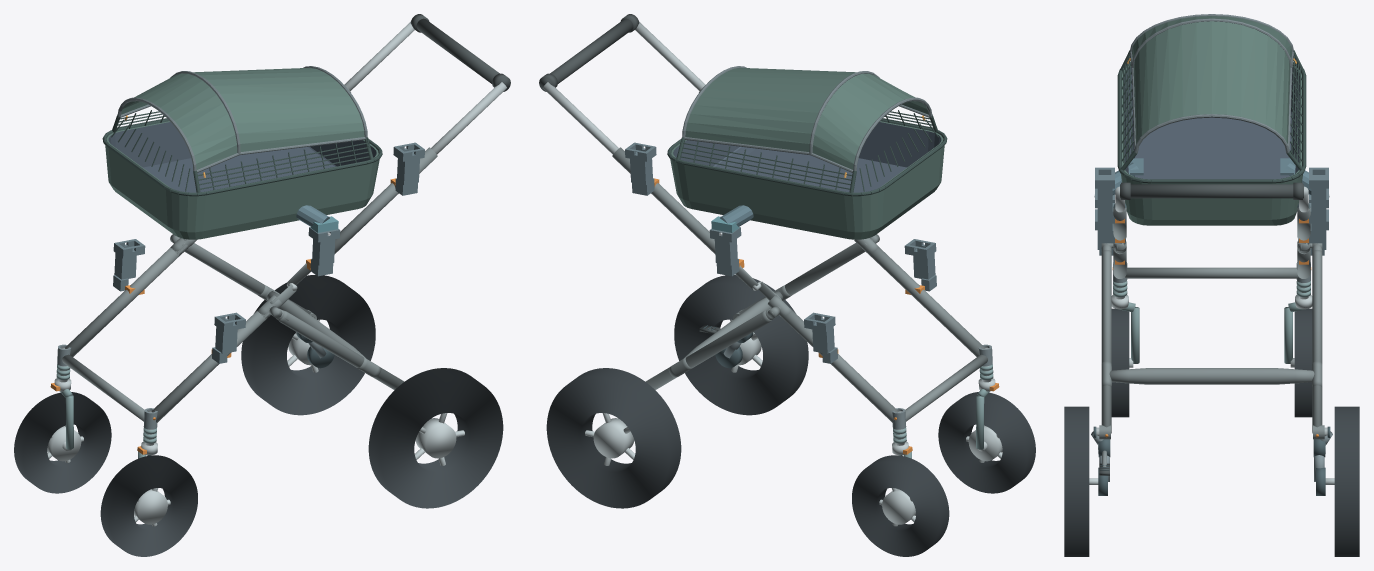
Rendered from S03_w550_state1_wheel_L.glb.
The picture shows the model from 3 angles, left to right: view 1: azimuth 30°, elevation 25°; view 2: azimuth 150°, elevation 25°; view 3: azimuth 270°, elevation 25°; orthographic projection. The views are drawn at different scales.
Parts seen in each view (by area): view 1: S03_Cabin, RL_tire.002, RR_tire.002, FL_tire.002, FR_tire.002, main_lower_1.003, V46_rear_leg_-1.003, main_lower_-1.003, round_handle.002, main_upper_-1.003, Universal_Cabin_Receiver_H_-1, V46_rear_leg_1.003 (+11 smaller); view 2: S03_Cabin, RR_tire.002, RL_tire.002, FR_tire.002, FL_tire.002, main_lower_-1.003, V46_rear_leg_1.003, main_lower_1.003, round_handle.002, main_upper_1.003, Universal_Cabin_Receiver_H_1, V46_rear_leg_-1.003 (+11 smaller); view 3: S03_Cabin, RL_tire.002, RR_tire.002, V46_rearbar.003, round_handle.002, front_fixed_round_tube.002, FL_tire.002, FR_tire.002, V46_rear_leg_1.003, V46_rear_leg_-1.003, Universal_Cabin_Receiver_H_1, Universal_Cabin_Receiver_H_-1 (+7 smaller).
Boxes of the visible parts, bbox=[...] form: S03_Cabin: bbox=[102, 66, 382, 239]; RL_tire.002: bbox=[368, 368, 503, 508]; RR_tire.002: bbox=[241, 275, 375, 415]; FL_tire.002: bbox=[100, 455, 197, 556]; FR_tire.002: bbox=[14, 392, 111, 493]; main_lower_1.003: bbox=[65, 245, 187, 356]; V46_rear_leg_-1.003: bbox=[278, 310, 404, 389]; main_lower_-1.003: bbox=[151, 311, 269, 422]; round_handle.002: bbox=[416, 18, 509, 90]; main_upper_-1.003: bbox=[310, 147, 437, 260]; Universal_Cabin_Receiver_H_-1: bbox=[393, 142, 424, 195]; V46_rear_leg_1.003: bbox=[184, 243, 312, 316]; S03_Cabin: bbox=[667, 66, 947, 239]; RR_tire.002: bbox=[546, 368, 681, 508]; RL_tire.002: bbox=[674, 275, 808, 415]; FR_tire.002: bbox=[852, 455, 949, 556]; FL_tire.002: bbox=[938, 392, 1035, 493]; main_lower_-1.003: bbox=[862, 245, 984, 356]; V46_rear_leg_1.003: bbox=[645, 310, 771, 389]; main_lower_1.003: bbox=[780, 311, 898, 422]; round_handle.002: bbox=[540, 18, 633, 90]; main_upper_1.003: bbox=[612, 147, 739, 260]; Universal_Cabin_Receiver_H_1: bbox=[625, 142, 656, 195]; V46_rear_leg_-1.003: bbox=[737, 243, 865, 316]; S03_Cabin: bbox=[1117, 14, 1306, 225]; RL_tire.002: bbox=[1064, 406, 1089, 556]; RR_tire.002: bbox=[1334, 406, 1359, 556]; V46_rearbar.003: bbox=[1109, 368, 1314, 384]; round_handle.002: bbox=[1120, 184, 1303, 198]; front_fixed_round_tube.002: bbox=[1125, 267, 1298, 278]; FL_tire.002: bbox=[1111, 308, 1129, 417]; FR_tire.002: bbox=[1294, 308, 1312, 417]; V46_rear_leg_1.003: bbox=[1312, 250, 1322, 433]; V46_rear_leg_-1.003: bbox=[1101, 250, 1111, 433]; Universal_Cabin_Receiver_H_1: bbox=[1309, 167, 1328, 223]; Universal_Cabin_Receiver_H_-1: bbox=[1095, 167, 1114, 223].
Size of the model in its own units: 1.19 by 1.17 by 0.7071.
